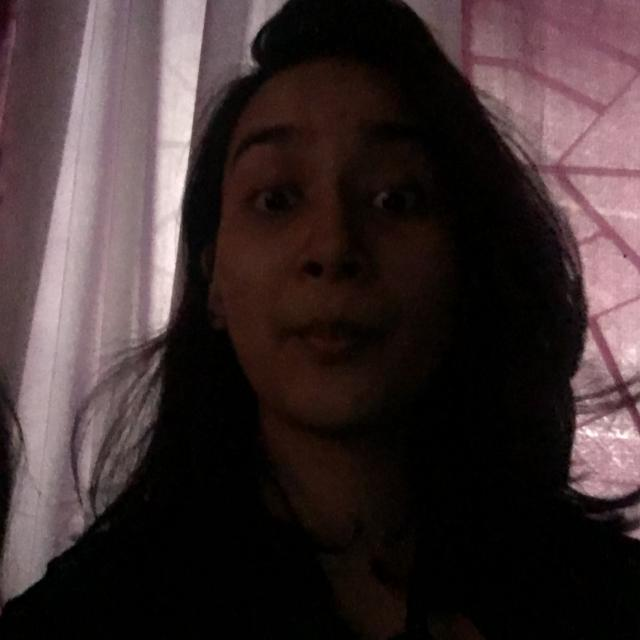Surprised: (146, 71, 525, 512)
